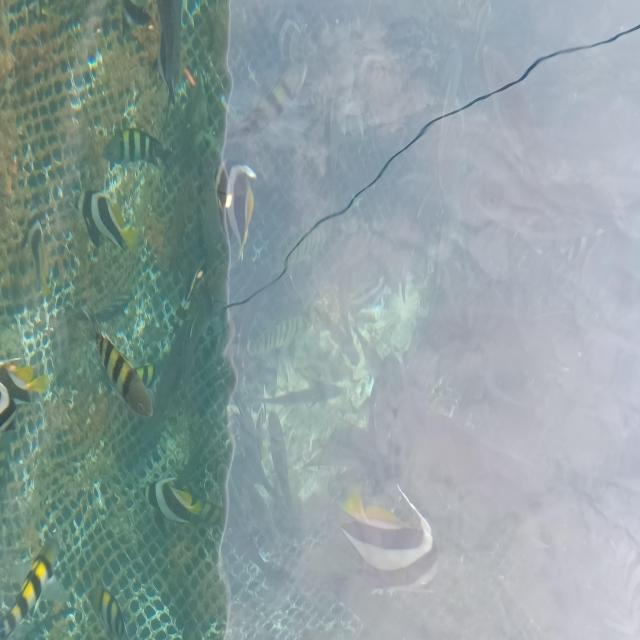ikan: (337, 482, 439, 592), (226, 59, 309, 142), (0, 538, 60, 639), (94, 330, 154, 418), (215, 160, 257, 262), (146, 476, 222, 526), (0, 357, 50, 432), (81, 188, 139, 252), (102, 126, 171, 172), (252, 378, 347, 408), (246, 314, 312, 357), (84, 585, 129, 639)
